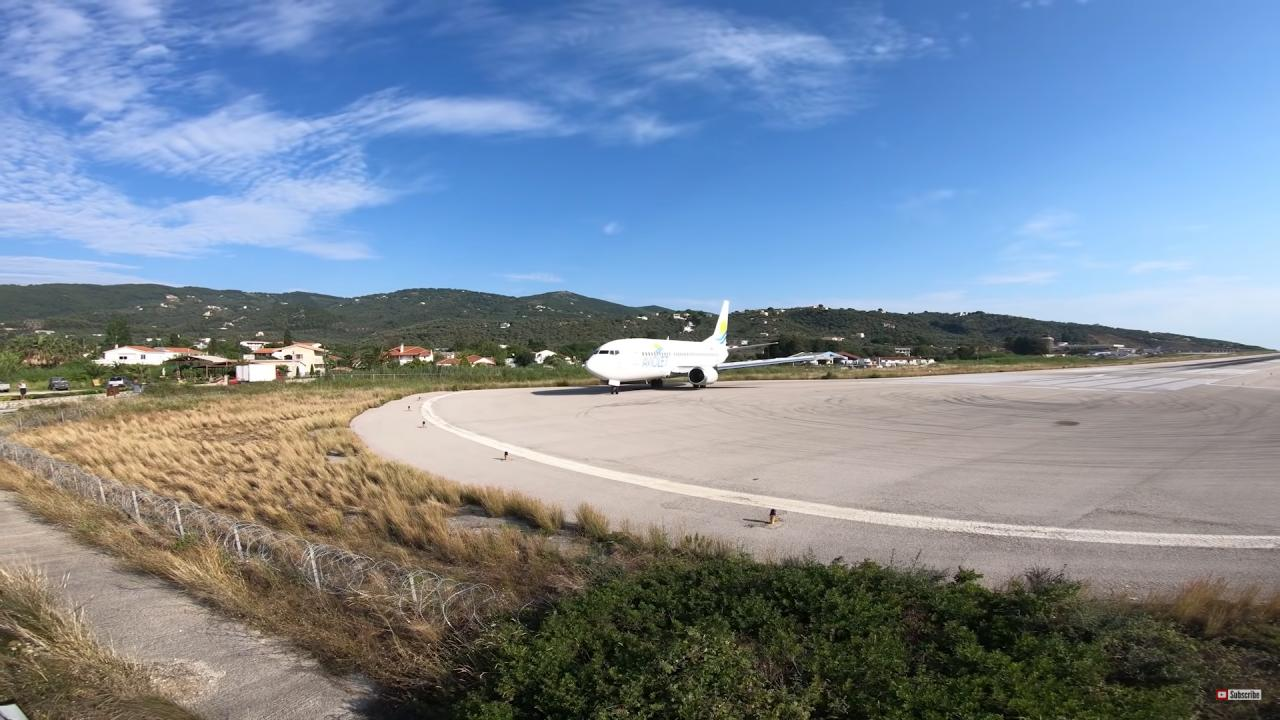Airplane: (568, 293, 843, 402)
